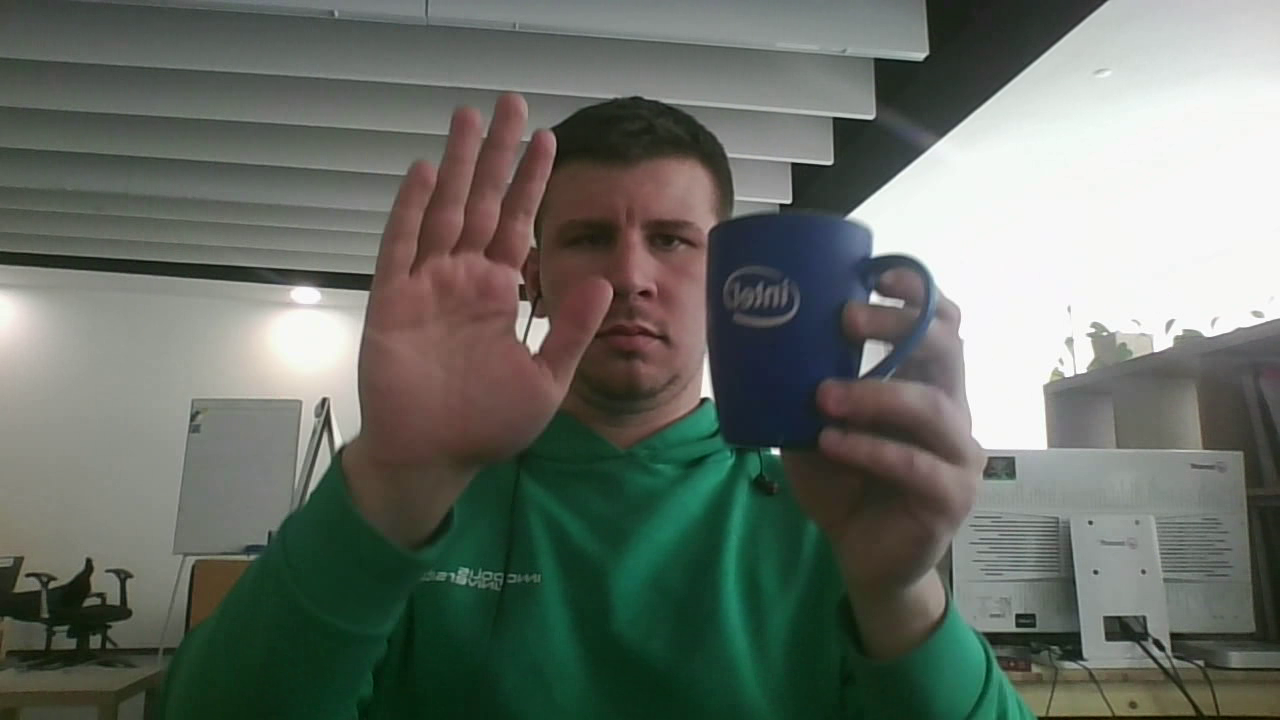cup: (706, 210, 937, 450)
